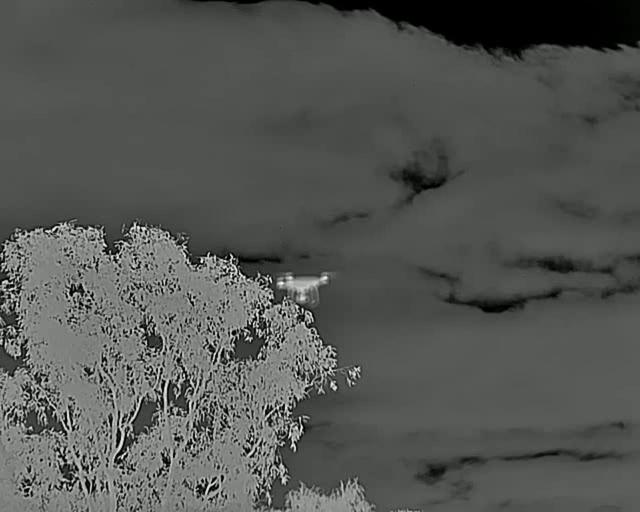DJI-Phantom: (276, 268, 338, 314)
